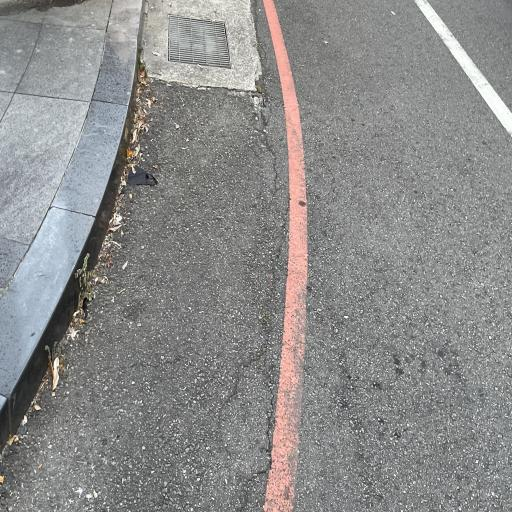redline: (260, 0, 310, 512)
